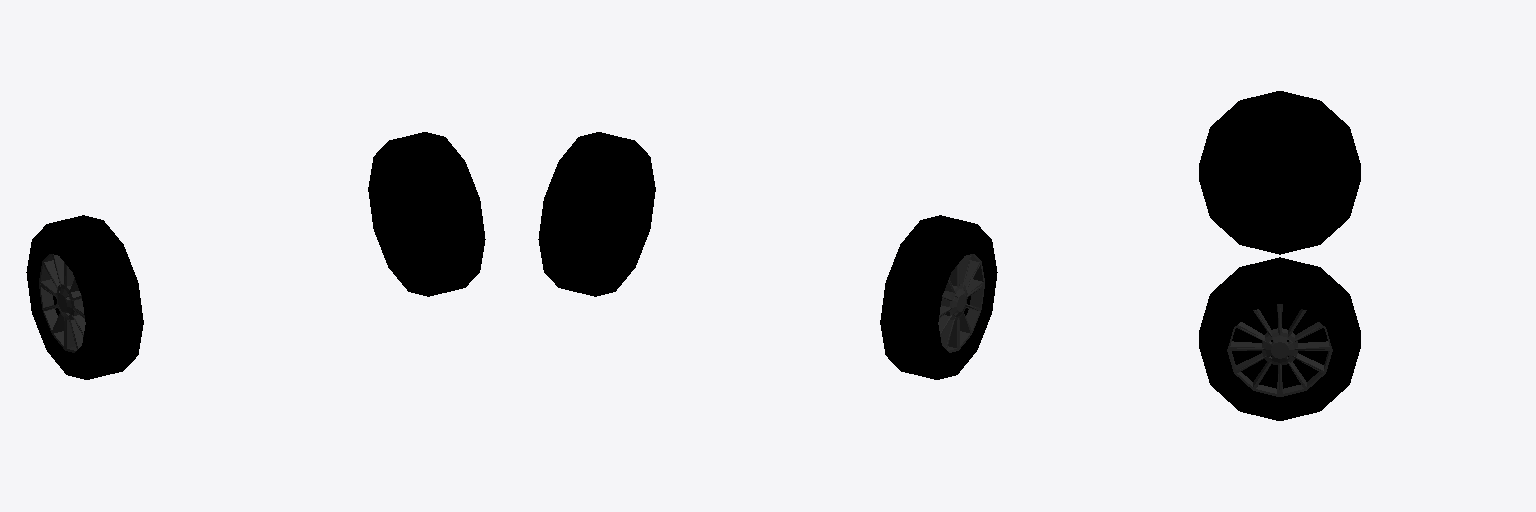
The model's file is Cop_BackWheels.obj.
The picture shows the model from 3 angles: view 1: azimuth 30°, elevation 25°; view 2: azimuth 150°, elevation 25°; view 3: azimuth 270°, elevation 25°; orthographic projection.
Parts seen in each view (by area): view 1: Cop_BackWheels; view 2: Cop_BackWheels; view 3: Cop_BackWheels.
Part boxes in pixels (left/top/right/bottom): Cop_BackWheels: left=26, top=132, right=485, bottom=379; Cop_BackWheels: left=538, top=132, right=997, bottom=379; Cop_BackWheels: left=1199, top=91, right=1360, bottom=420.
Size of the model in its own units: 1.55 by 0.5506 by 0.5506.